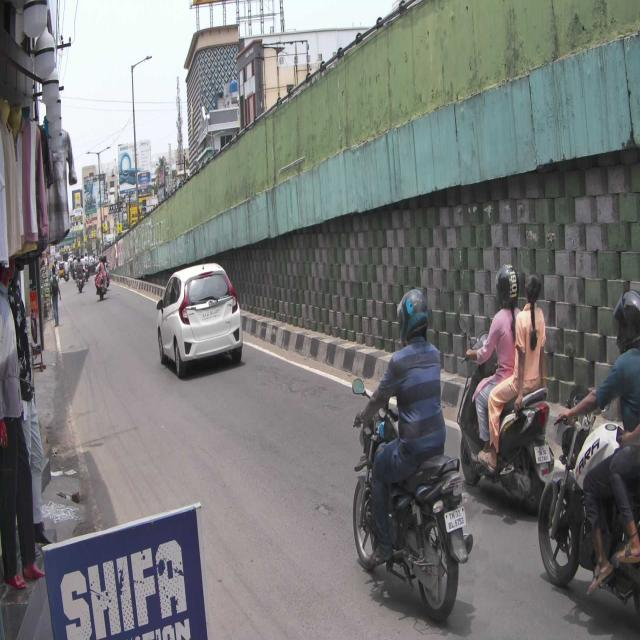double_rider: (479, 261, 554, 506)
single_rider: (351, 284, 476, 622)
